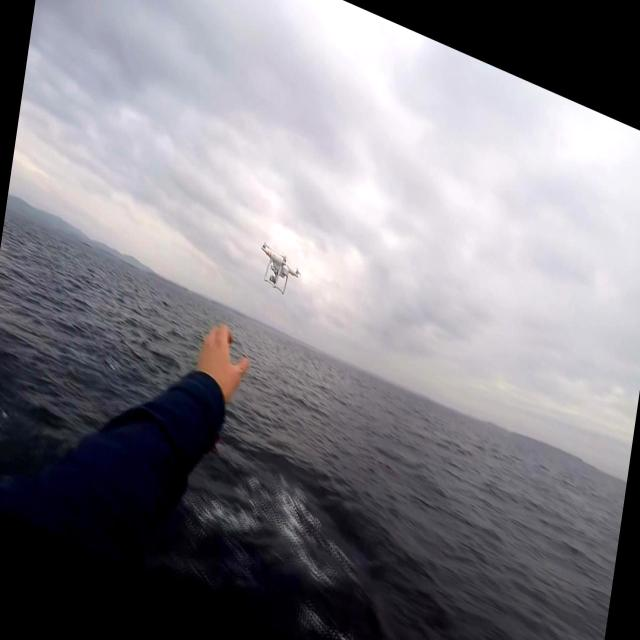drone: (256, 232, 306, 303)
